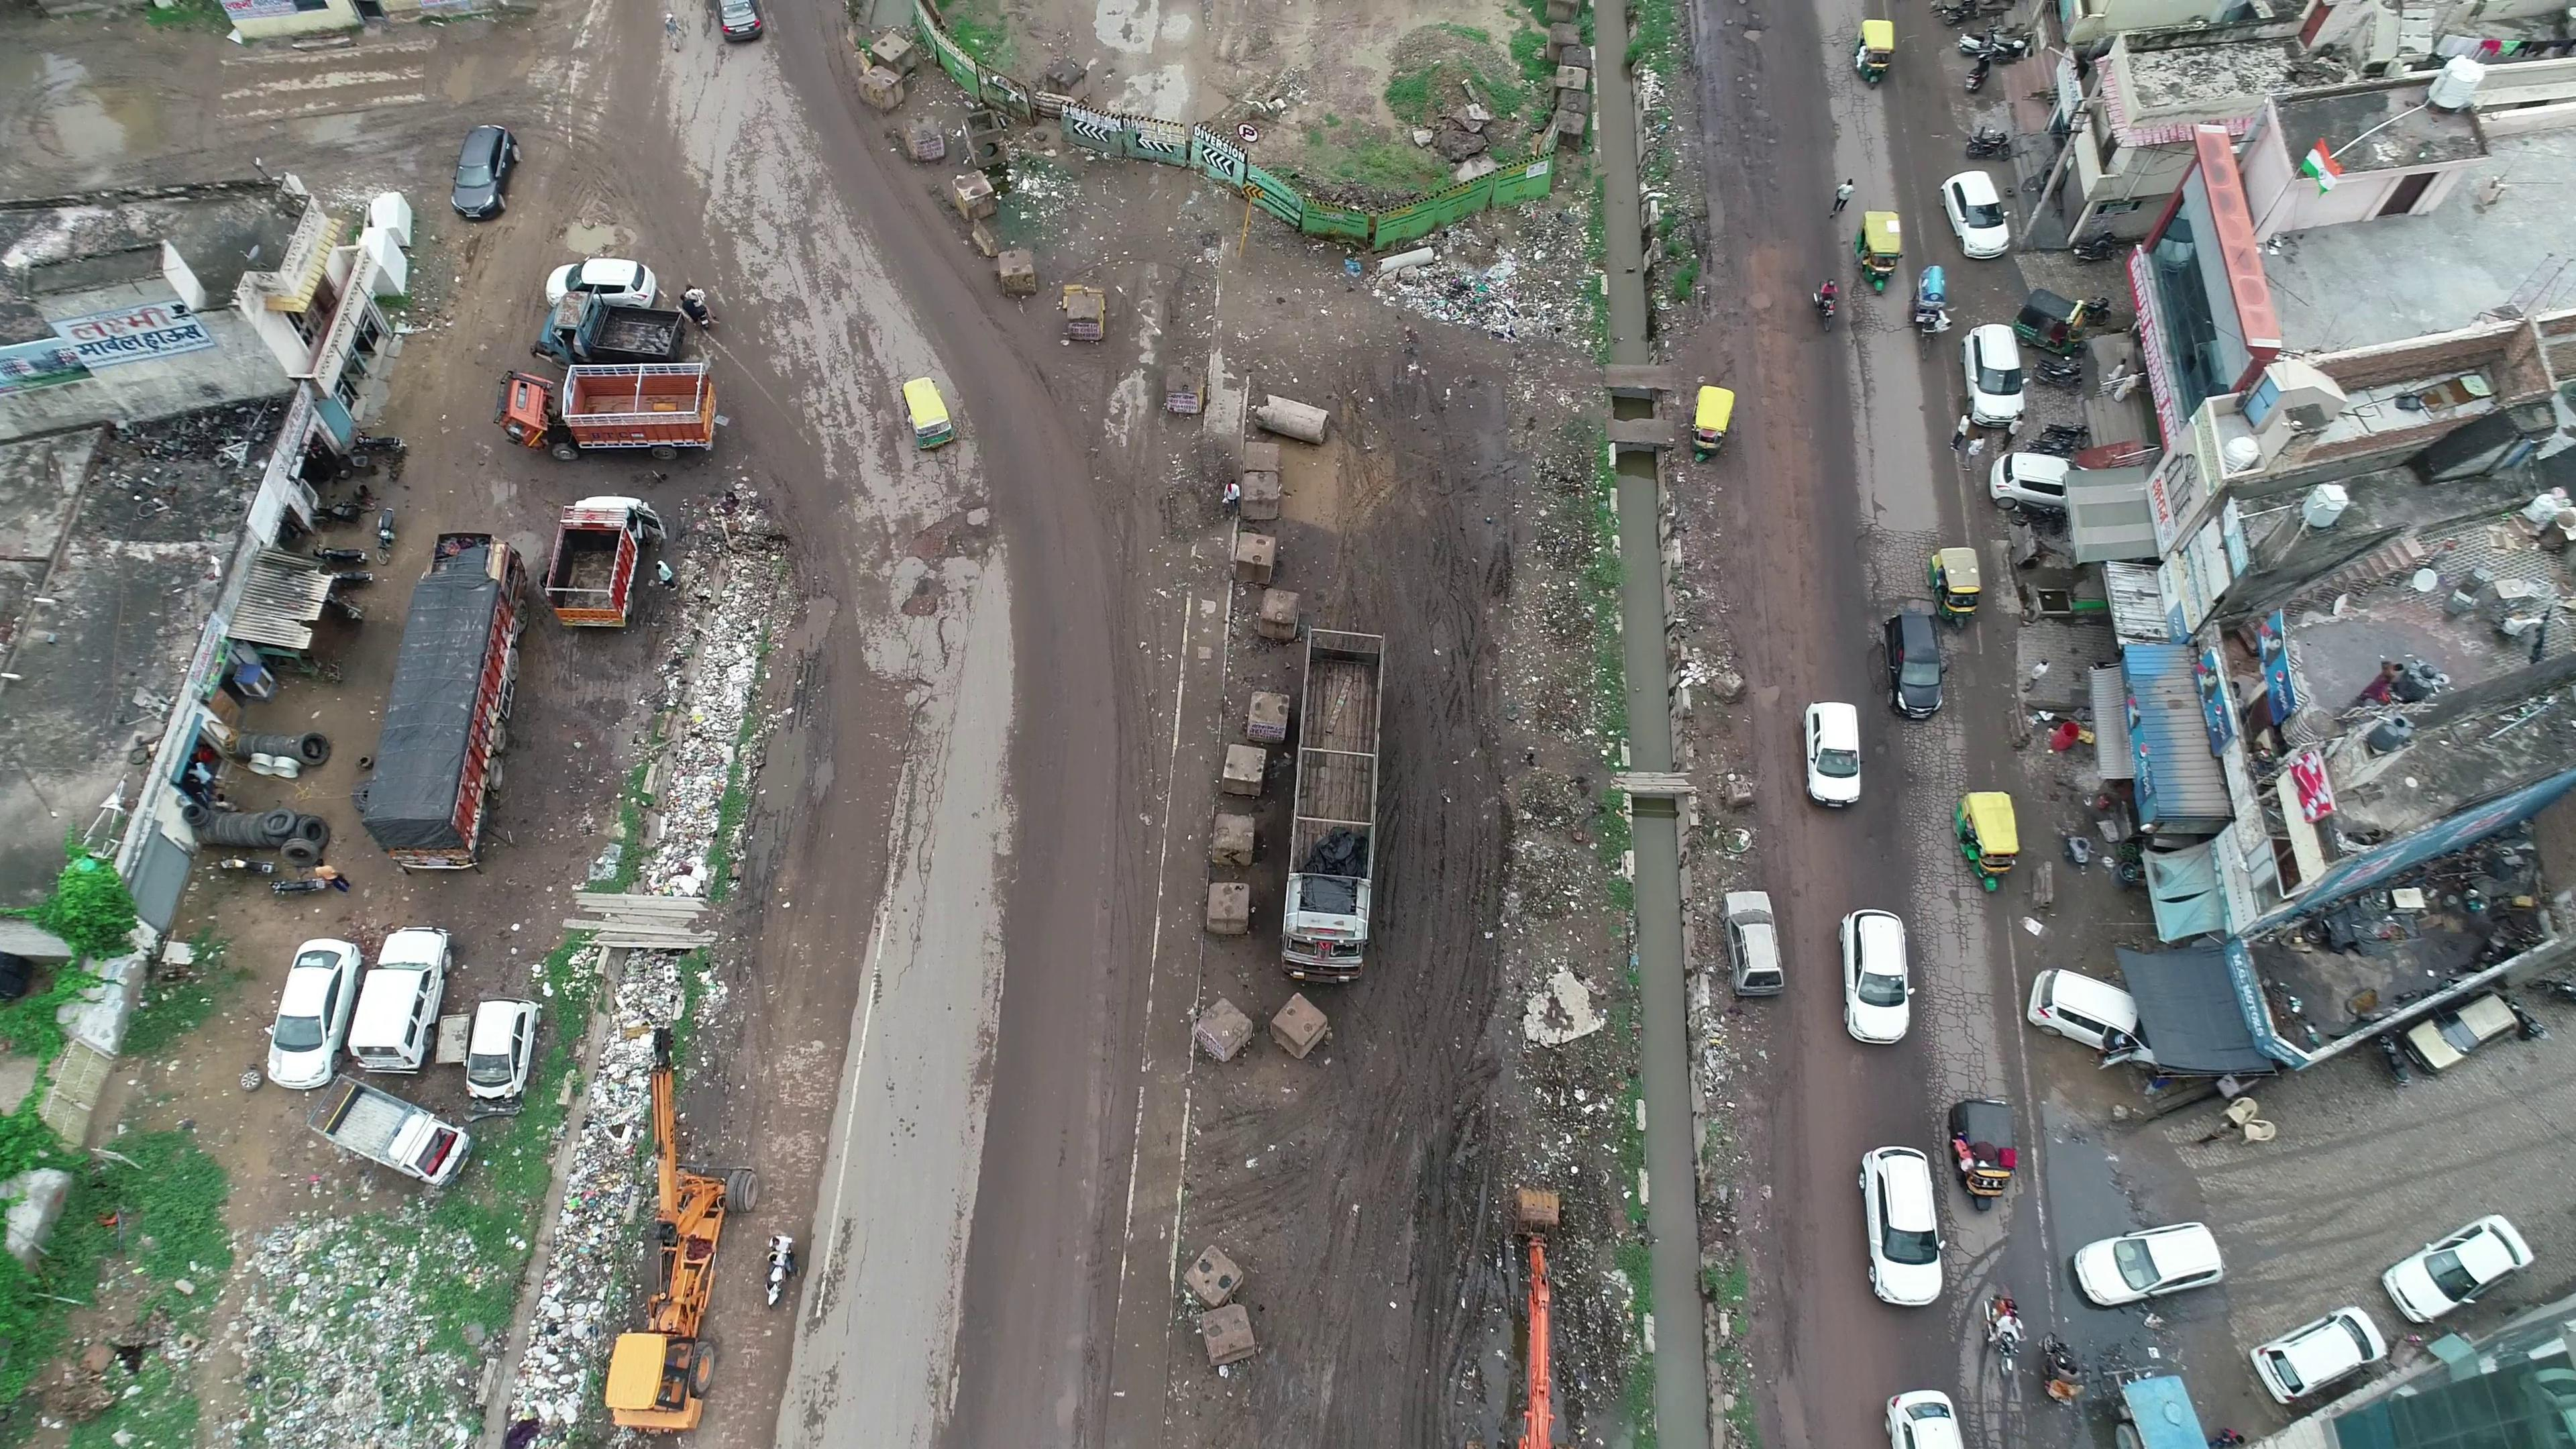Alligator_cracks: (1916, 870, 2003, 1095), (747, 122, 835, 287), (1907, 725, 1966, 867), (1867, 522, 1937, 594)
Longitudinal_cracks: (895, 702, 966, 961)
Muddy_road: (996, 626, 1138, 1035), (950, 1081, 1104, 1415), (1748, 441, 1840, 667), (1789, 1162, 1867, 1391), (1805, 1040, 1879, 1154)
Road_side_garbage: (495, 1021, 660, 1415), (621, 586, 766, 863), (1419, 260, 1562, 343)
